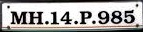character: (9, 10, 27, 25), (27, 10, 43, 25), (79, 10, 92, 25), (59, 10, 71, 25), (110, 9, 122, 24), (123, 9, 135, 24), (97, 10, 109, 24), (49, 10, 59, 25)
